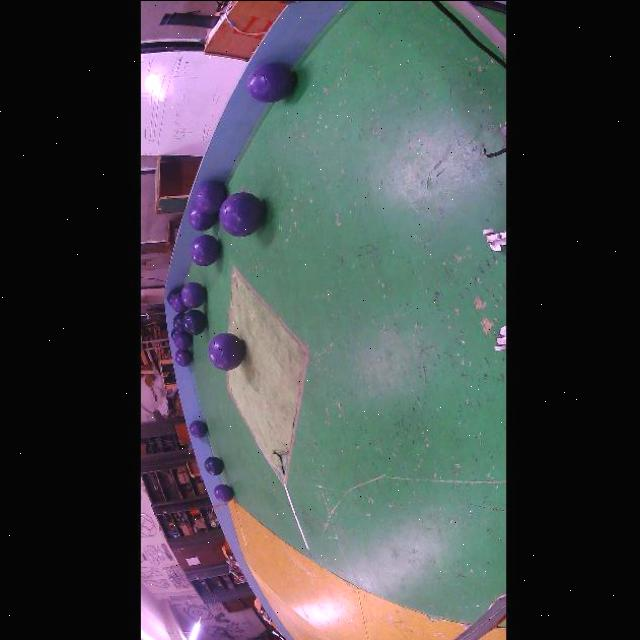B: (182, 309, 206, 334), (203, 455, 223, 474), (165, 286, 181, 302), (172, 311, 184, 332)
P: (219, 191, 264, 236), (245, 62, 295, 102), (207, 332, 244, 370), (193, 181, 225, 214), (189, 234, 220, 266), (188, 205, 217, 230), (181, 281, 206, 308), (169, 291, 188, 311), (214, 483, 233, 502), (173, 330, 191, 349), (188, 419, 206, 437), (174, 348, 192, 366)
